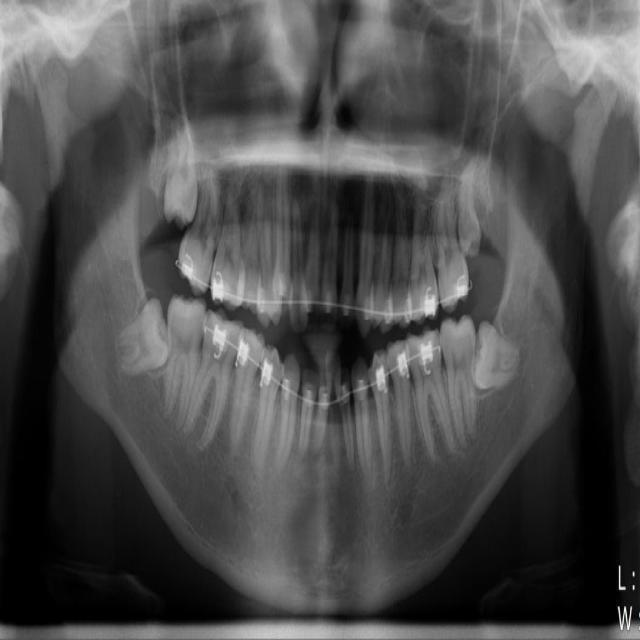3M ESPE Implant: (164, 116, 198, 228)
BioHorizons Implant: (435, 172, 470, 312)
BioLife Implant: (457, 156, 481, 257)
Biomet 3i Implant: (468, 323, 524, 395)
Blue Sky Bio Implant: (440, 316, 477, 449)
Caries: (171, 162, 235, 298)
Implant: (161, 293, 208, 431)
Keystone Dental Implant: (107, 297, 176, 378)
